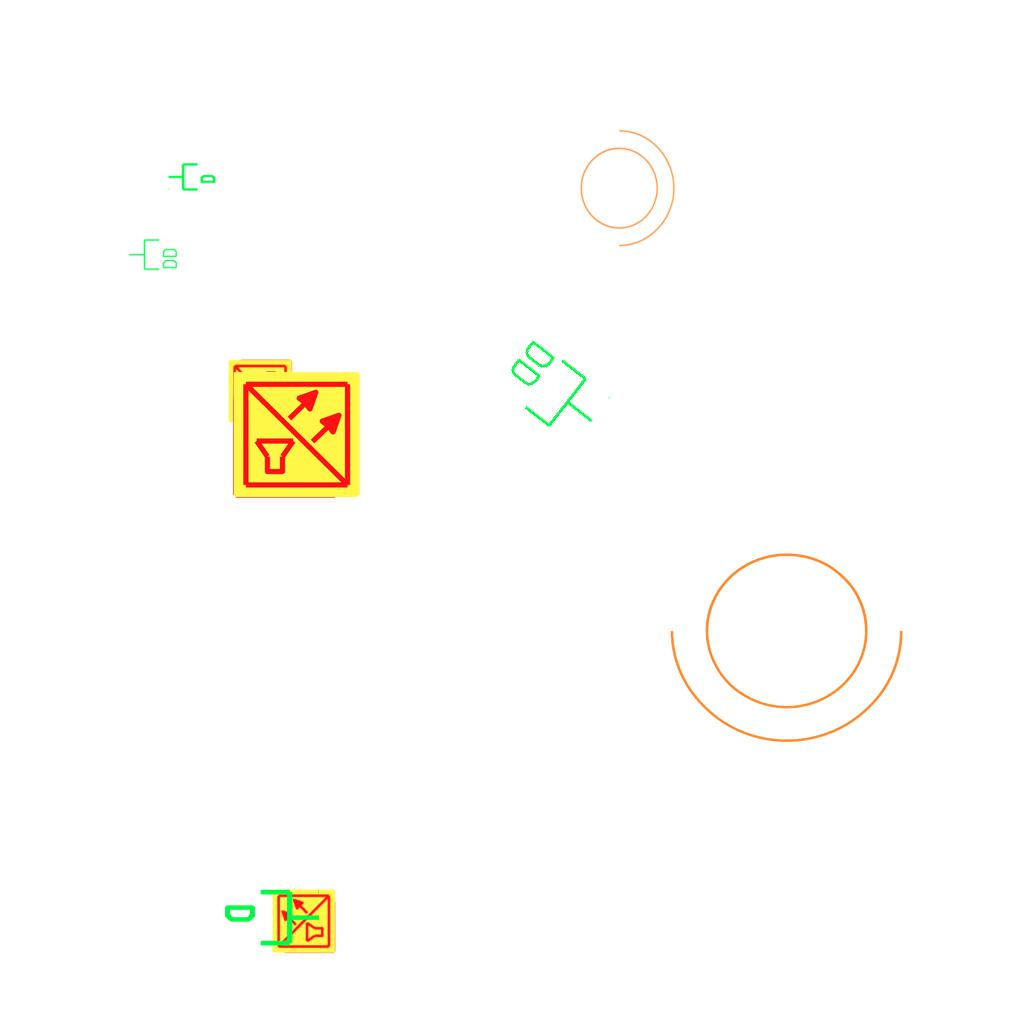Datenanschluss_einfach: (222, 885, 322, 954), (167, 159, 217, 193)
Datenanschluss_zweifach: (491, 331, 616, 450), (128, 238, 179, 272)
OKW_Multisensormelder_(Kombination_optischer_Rauch-Kahlenmonoxid_Waerme-Melder): (231, 369, 363, 501), (271, 888, 337, 954), (227, 358, 293, 424)
Scheinwerfer_fuer_Alarmbeleuchtung: (661, 528, 925, 753), (568, 119, 680, 251)
